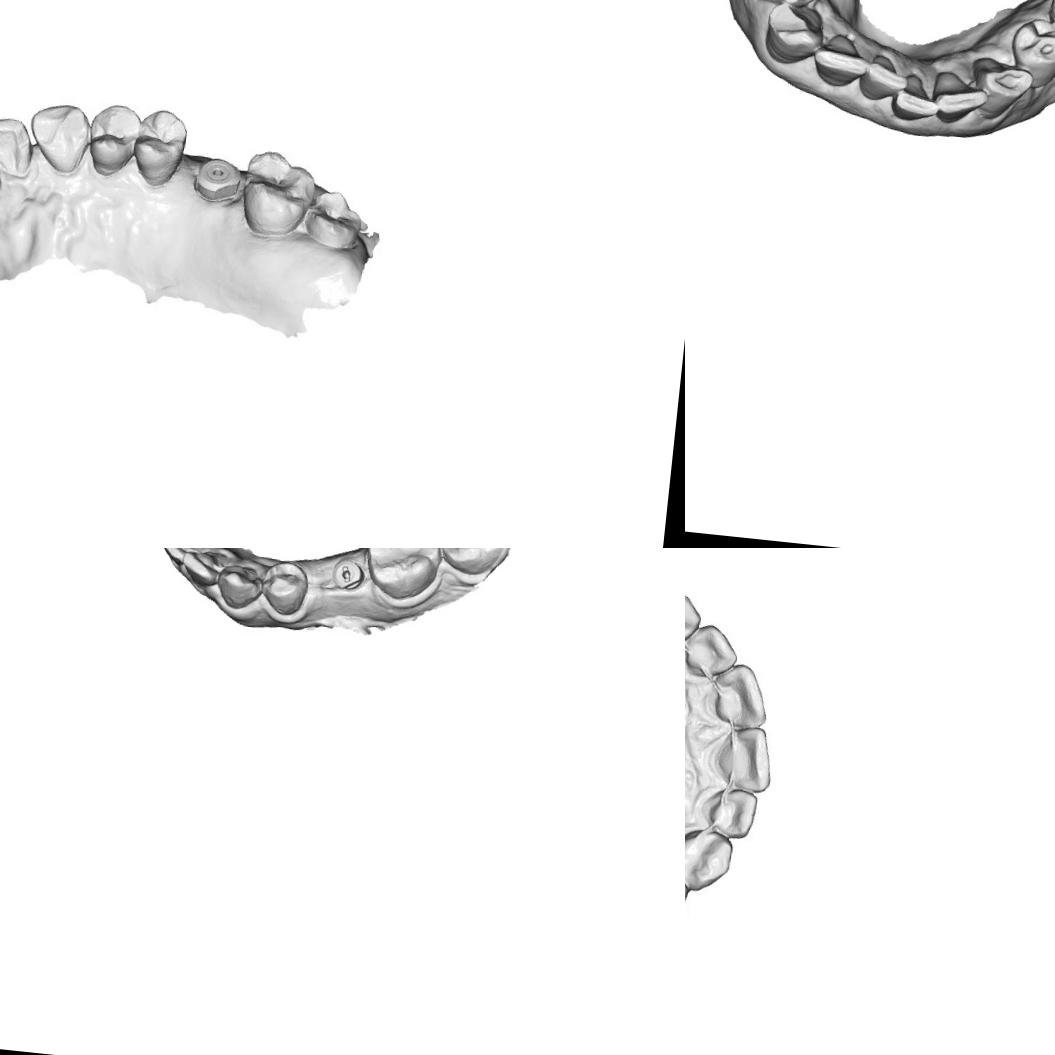canine: (28, 99, 92, 174), (968, 53, 1032, 122), (761, 0, 823, 67), (685, 824, 737, 895), (214, 560, 266, 613), (685, 583, 705, 655)
implant: (193, 153, 244, 202)
implant_minus: (328, 556, 367, 595)
incisor: (712, 662, 770, 737), (718, 720, 778, 792), (928, 66, 992, 125), (685, 620, 743, 682), (810, 31, 870, 90), (702, 786, 759, 837), (857, 55, 912, 107), (890, 71, 942, 124), (0, 115, 36, 181), (177, 548, 227, 590), (154, 548, 210, 566)
molar: (242, 152, 316, 240), (300, 184, 370, 256), (361, 548, 447, 605), (431, 548, 518, 580)
premolar: (133, 109, 189, 188), (87, 100, 143, 176), (1009, 13, 1055, 86), (258, 557, 312, 618)
